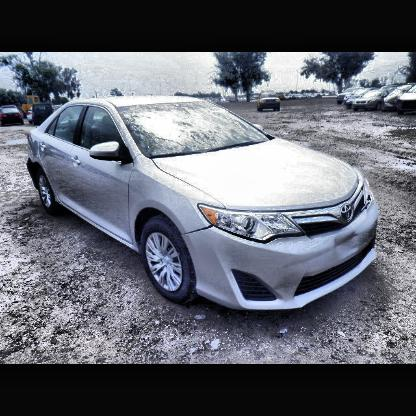Toyota Camry Sedan 2012: (26, 97, 377, 314)
